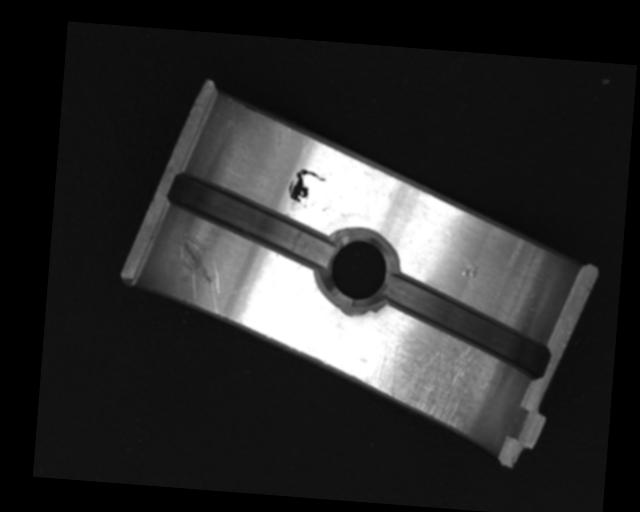blot: (286, 167, 327, 208)
bruise: (459, 259, 482, 278)
gap: (373, 271, 555, 381), (161, 169, 335, 266)
hole: (318, 229, 401, 308)
nick: (173, 231, 229, 315)
scratch: (361, 333, 508, 430)
